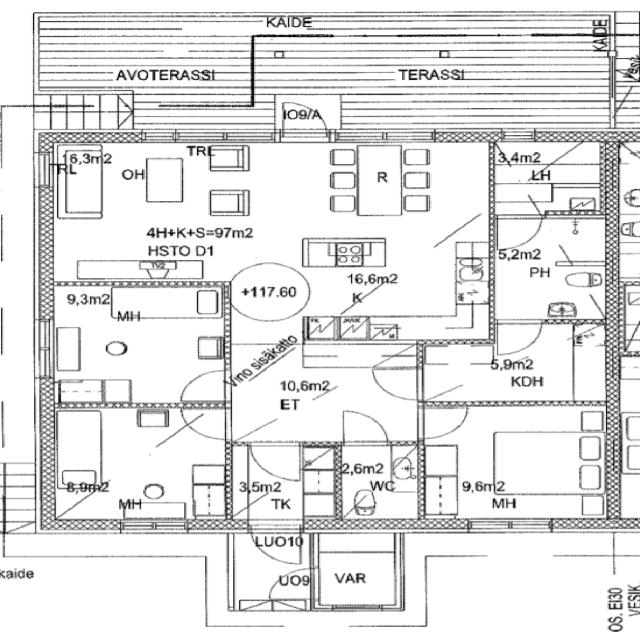door: (367, 356, 425, 402), (278, 97, 334, 142), (335, 406, 393, 448), (246, 441, 304, 482), (178, 404, 234, 442), (250, 526, 306, 564), (416, 404, 472, 441), (176, 366, 232, 403), (493, 319, 546, 358), (493, 212, 546, 251)
window: (29, 316, 62, 383), (466, 516, 556, 536), (119, 516, 188, 536), (29, 149, 56, 190), (140, 126, 179, 144), (332, 603, 384, 614), (501, 130, 536, 142)
zone: (45, 142, 370, 269), (307, 145, 492, 339), (46, 284, 227, 406), (422, 407, 611, 523), (52, 405, 231, 525), (492, 217, 612, 322), (490, 138, 603, 212), (237, 445, 339, 526), (333, 443, 423, 524), (313, 540, 400, 610), (280, 98, 332, 142), (612, 140, 640, 220), (615, 217, 640, 284), (56, 379, 110, 407), (623, 278, 640, 354), (623, 412, 640, 474)
